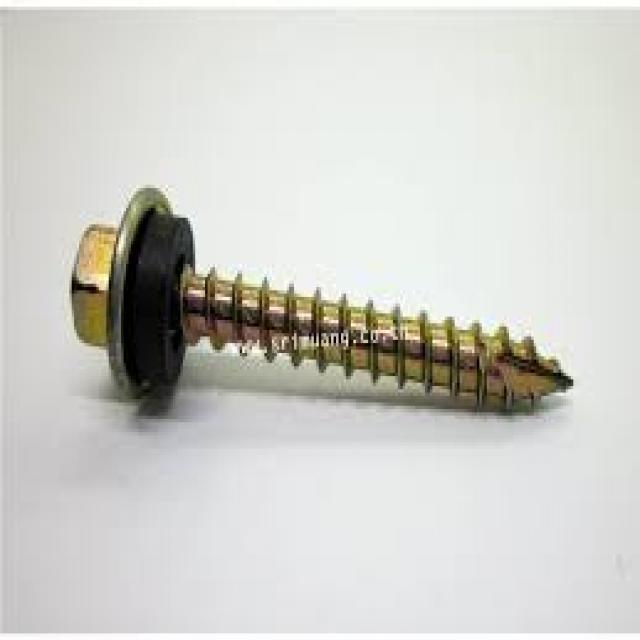Screw: (69, 188, 573, 416)
